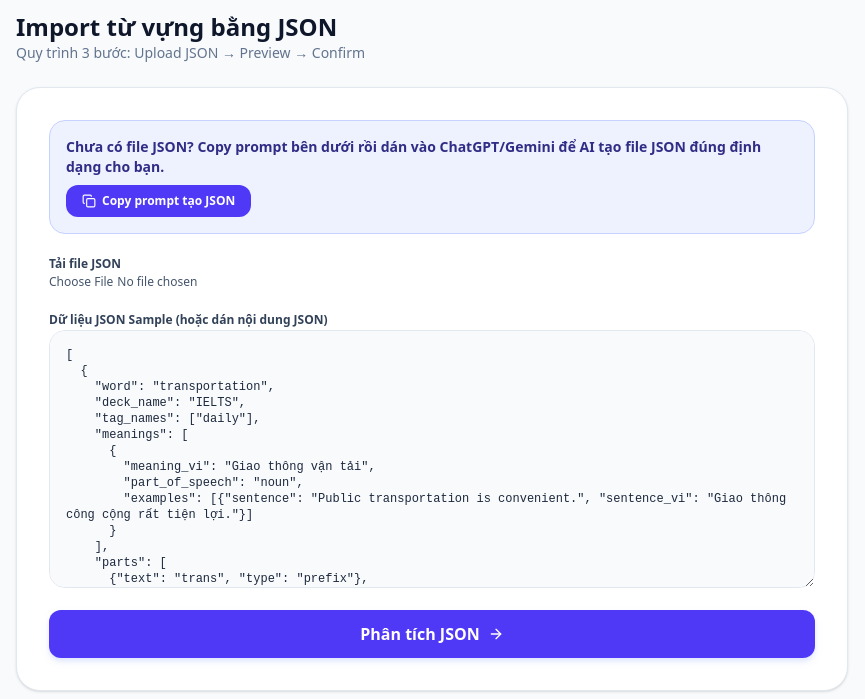
JsonImportModal validation flow › copies a JSON-generation prompt naming the deck and the user's tags
This screenshot has width=865, height=699.
Click the button "Copy prompt tạo JSON" at (159, 201), box [66,185,251,217]
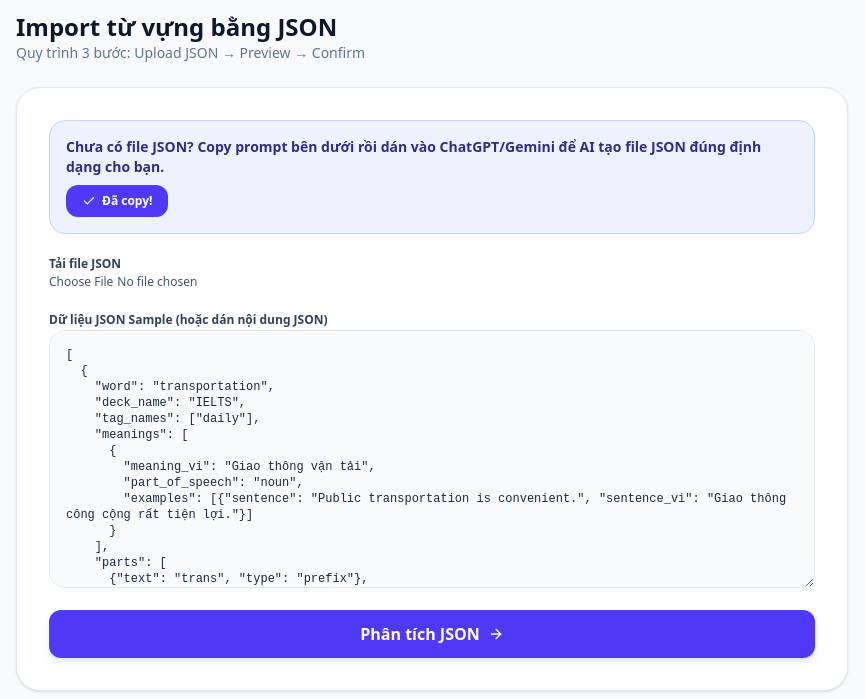
expect the text "Đã copy!" is shown: met, box [102,193,152,209]
